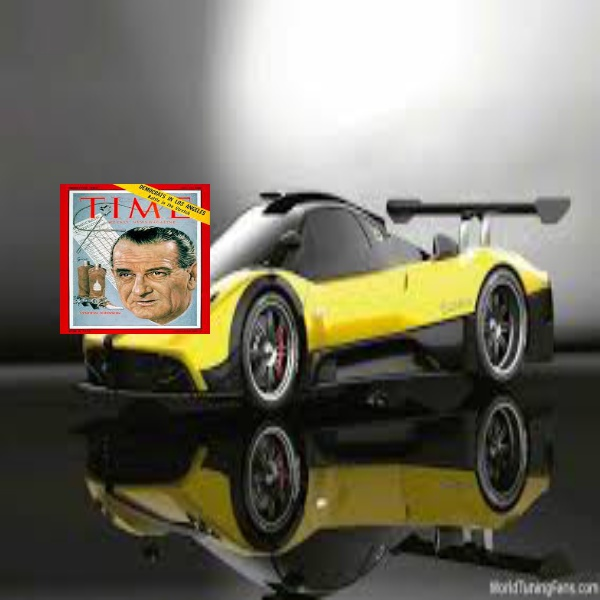time_cover: (57, 172, 210, 337)
